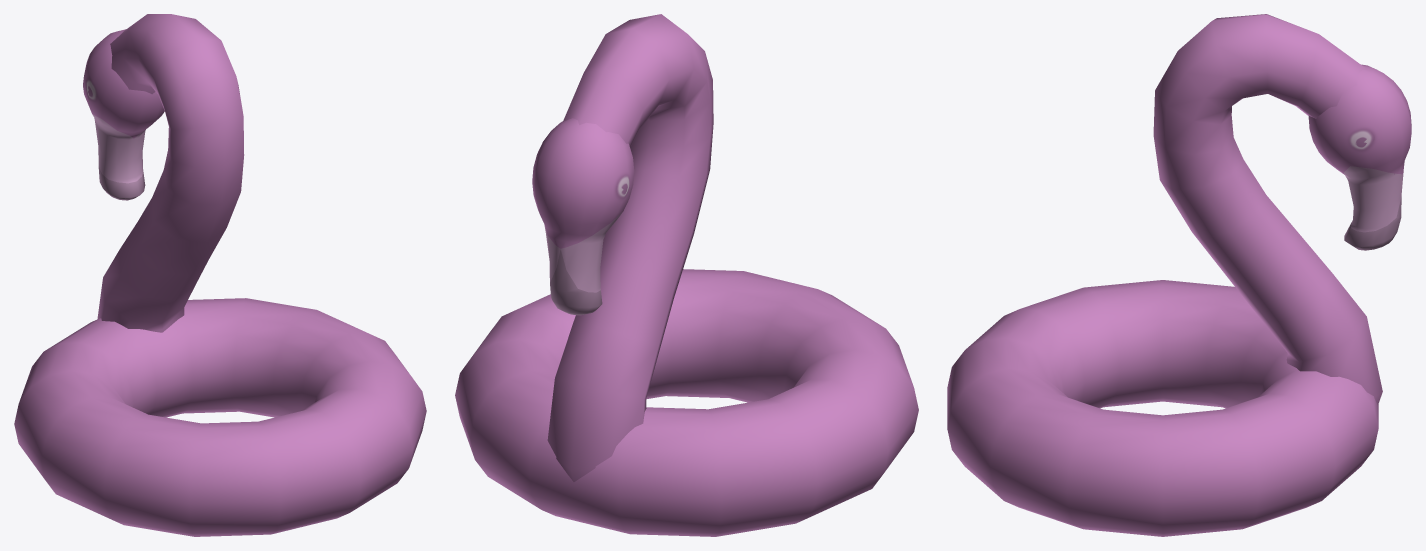
Rendered from flamingoTexture.fbx.
The picture shows the model from 3 angles, left to right: view 1: azimuth 30°, elevation 25°; view 2: azimuth 150°, elevation 25°; view 3: azimuth 270°, elevation 25°; orthographic projection. The views are drawn at different scales.
Parts seen in each view (by area): view 1: flamingo; view 2: flamingo; view 3: flamingo.
Part boxes in pixels (bbox=[...]): flamingo: bbox=[14, 14, 426, 536]; flamingo: bbox=[455, 14, 918, 536]; flamingo: bbox=[947, 14, 1411, 536].
Size of the model in its own units: 1.08 by 1.21 by 1.13.
